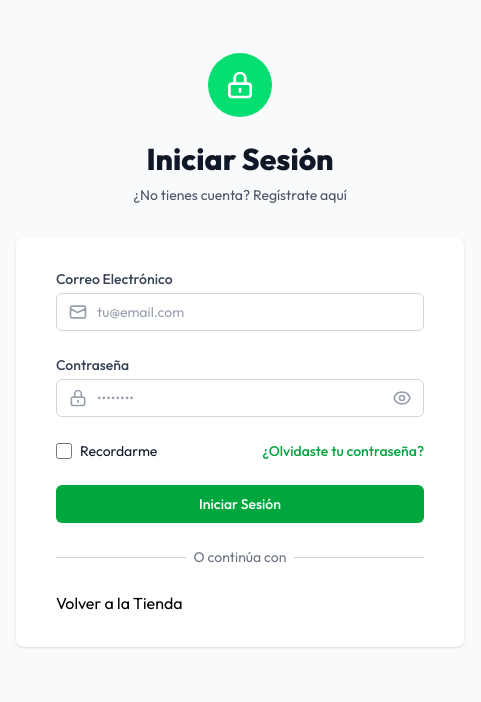
Test: LoginPage Tests › Form Validation and Submission › should show error with invalid credentials (NOT OK)
The width and height of the screenshot is (481, 702).
// Llenar credenciales inválidas
Type "wrong@email.com" into the field labelled "Correo Electrónico" at (240, 312), box [56,293,424,331]
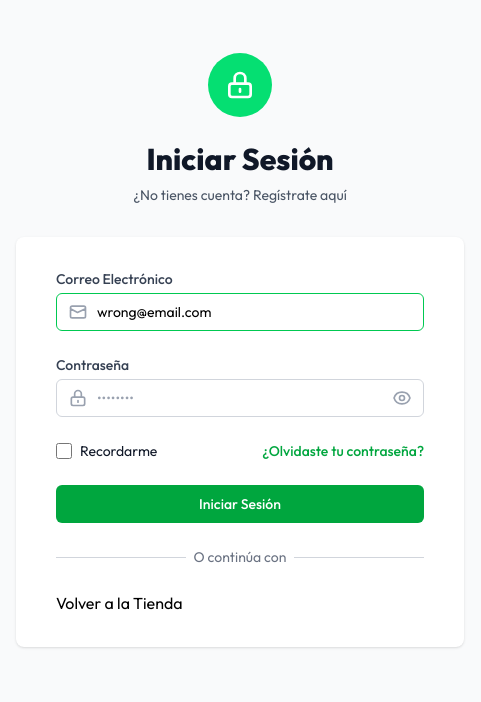
Type "wrongpassword" into the password field labelled "Contraseña" at (240, 398), box [56,379,424,417]
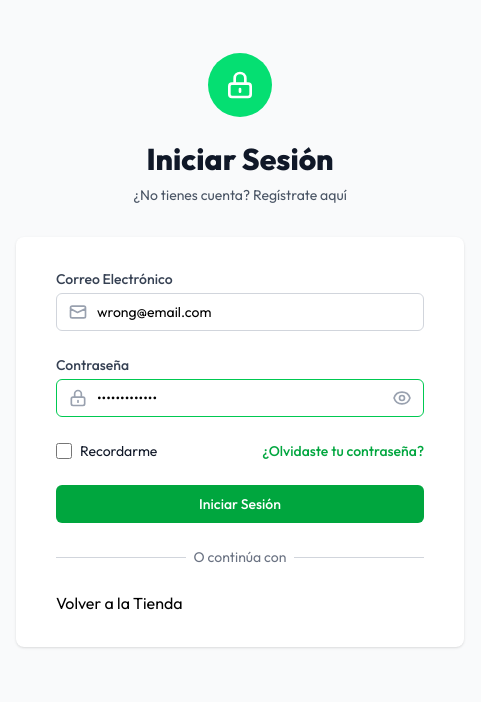
// Submit del formulario
Click the button "Iniciar Sesión" at (240, 504), box [56,485,424,523]
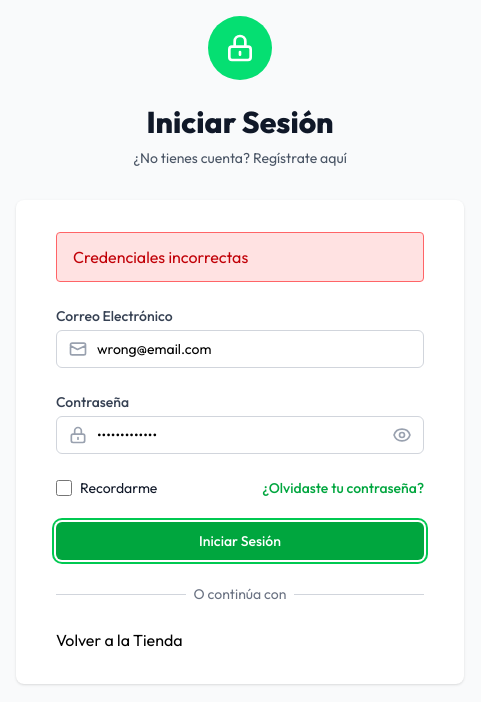
Expected: the text "Credenciales incorrectas" is shown, [73,247,248,267]
